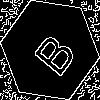B: (25, 25, 78, 79)
